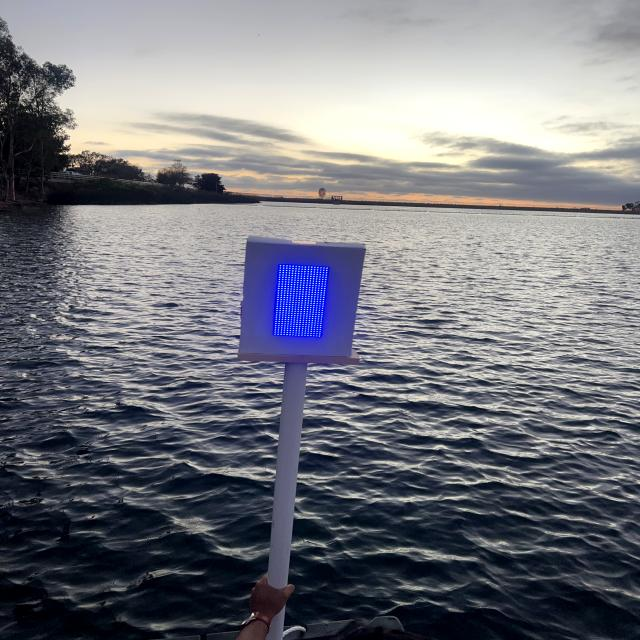led: (264, 249, 339, 354)
